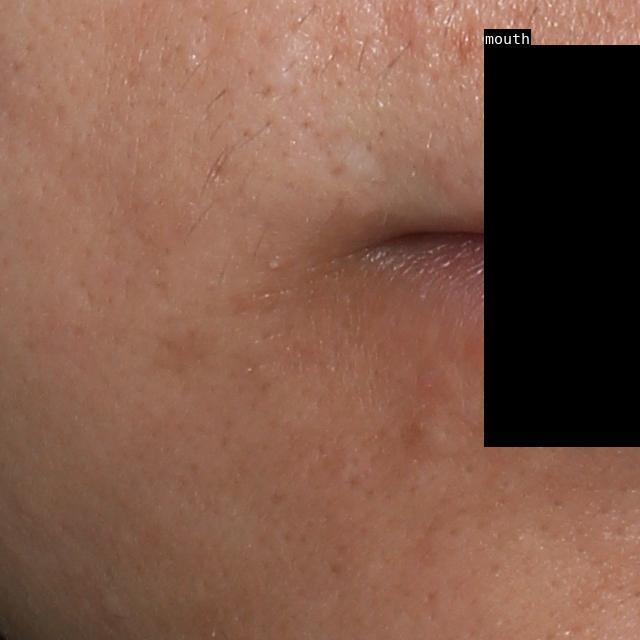hypertrophic_scar: (286, 134, 390, 197), (255, 25, 323, 92)
